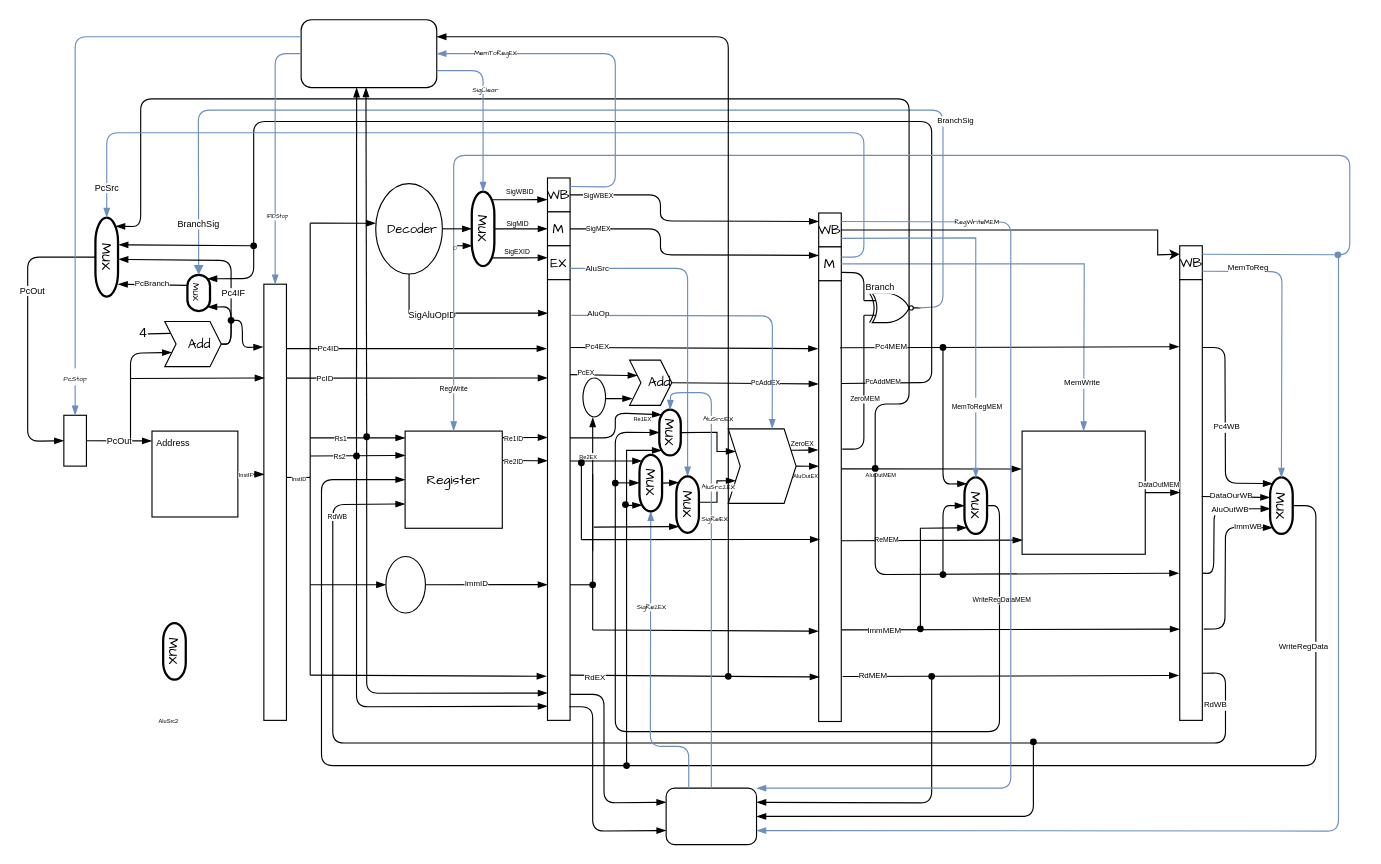
Some shapes in this 1381 by 864 pixel diagram are drawn without their labels. Each missing label, with the box of its shape:
ALU: (727, 428, 796, 503)
forwarding unit: (665, 787, 757, 845)
Hazard detection Unit: (300, 19, 437, 88)
imm *2: (582, 377, 606, 417)
Imm Gen: (385, 555, 425, 613)
ImmEX: (569, 561, 615, 607)
PC: (63, 414, 86, 466)
RAM: (1021, 430, 1145, 554)
ROM: (151, 430, 238, 517)
